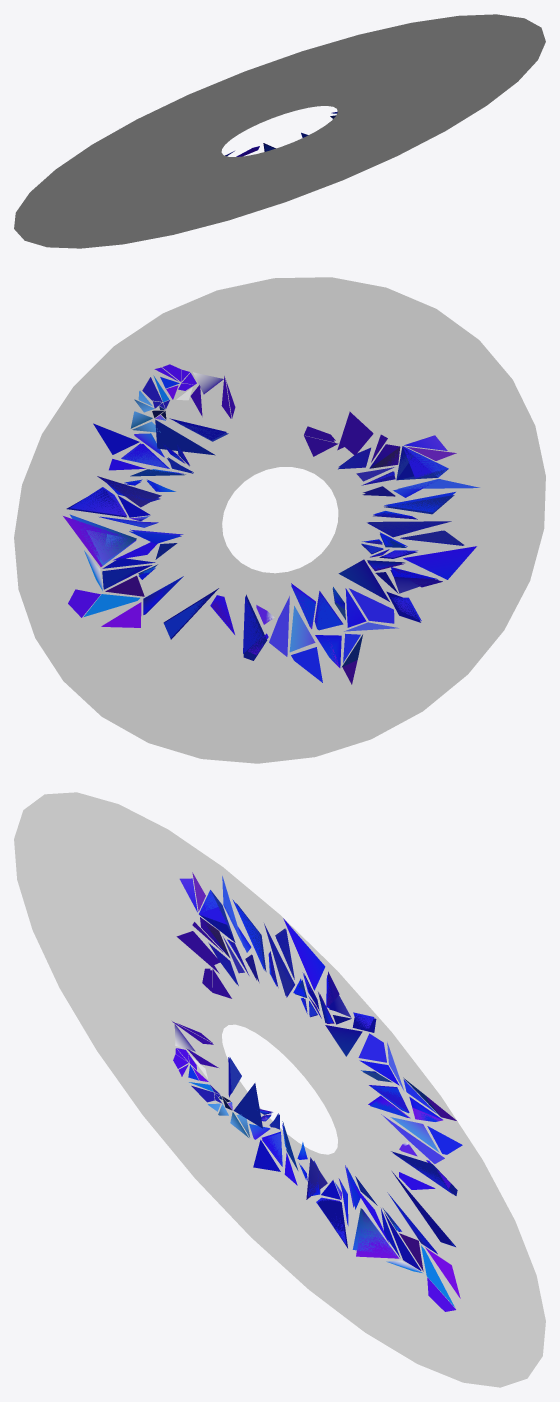
Rendered from pref_fx_Vulpix_spellU_screen_003802_lv3.fbx.
The picture shows the model from 3 angles, top to bottom: view 1: azimuth 30°, elevation 25°; view 2: azimuth 150°, elevation 25°; view 3: azimuth 270°, elevation 25°; orthographic projection. The views are drawn at different scales.
Parts seen in each view (by area): view 1: sm_glow_blend; view 2: sm_glow_blend, sm_crystal_01; view 3: sm_glow_blend, sm_crystal_01.
Part boxes in pixels (x1,y1,x2,y2): sm_glow_blend: (14,14,545,248); sm_glow_blend: (14,277,545,763); sm_crystal_01: (63,364,479,684); sm_glow_blend: (14,792,545,1387); sm_crystal_01: (172,872,462,1311).
Bounding box in the file's own units: 40.56 × 26.13 × 26.13.
